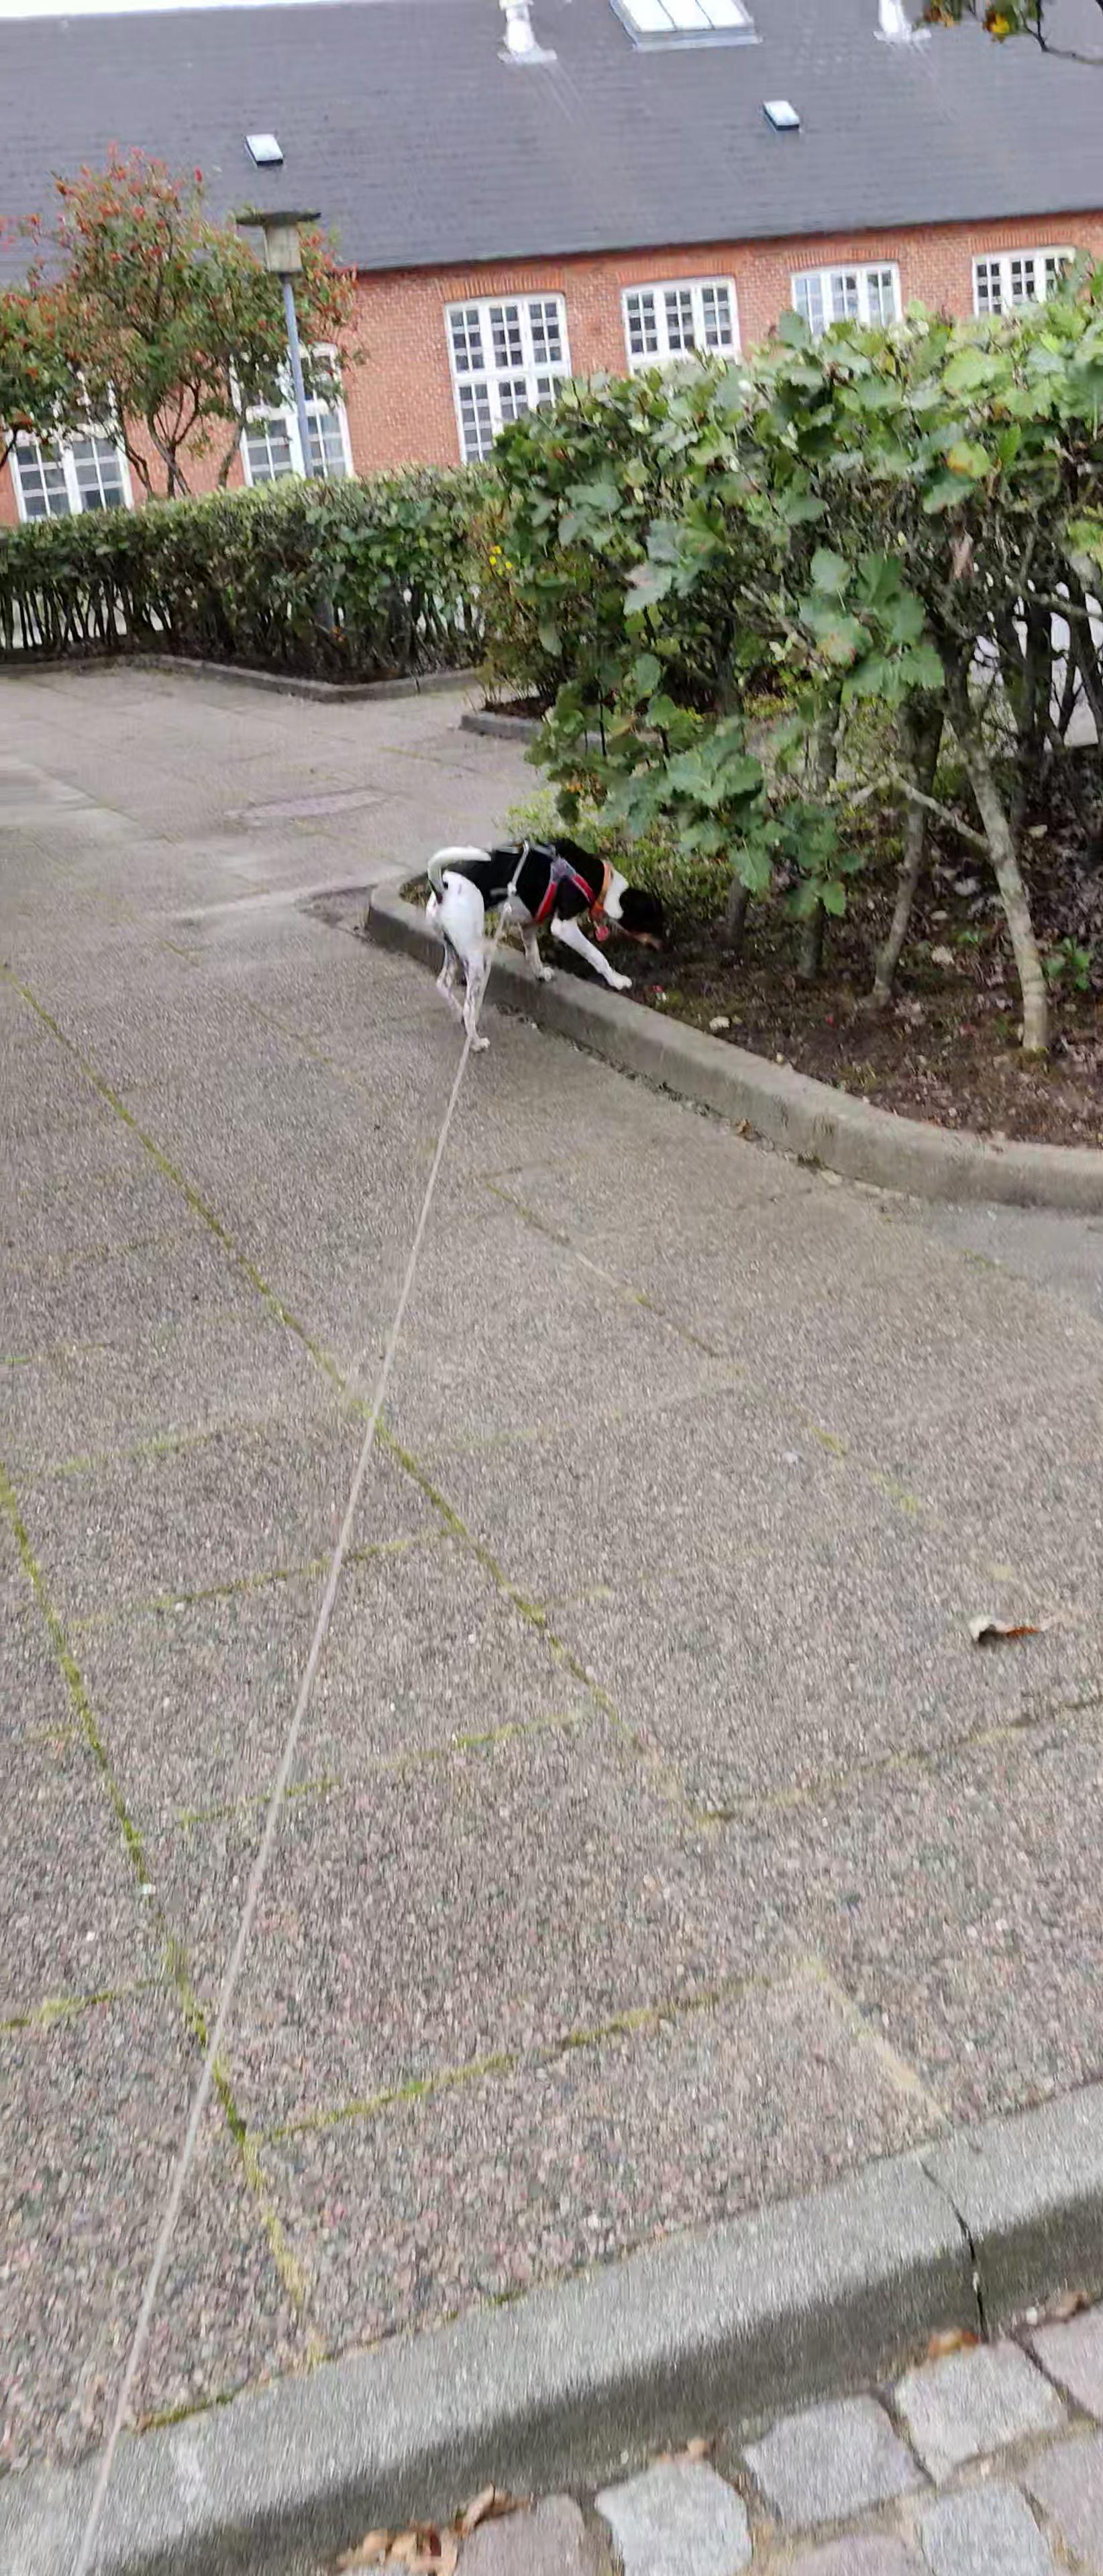Dog: (422, 833, 676, 1053)
